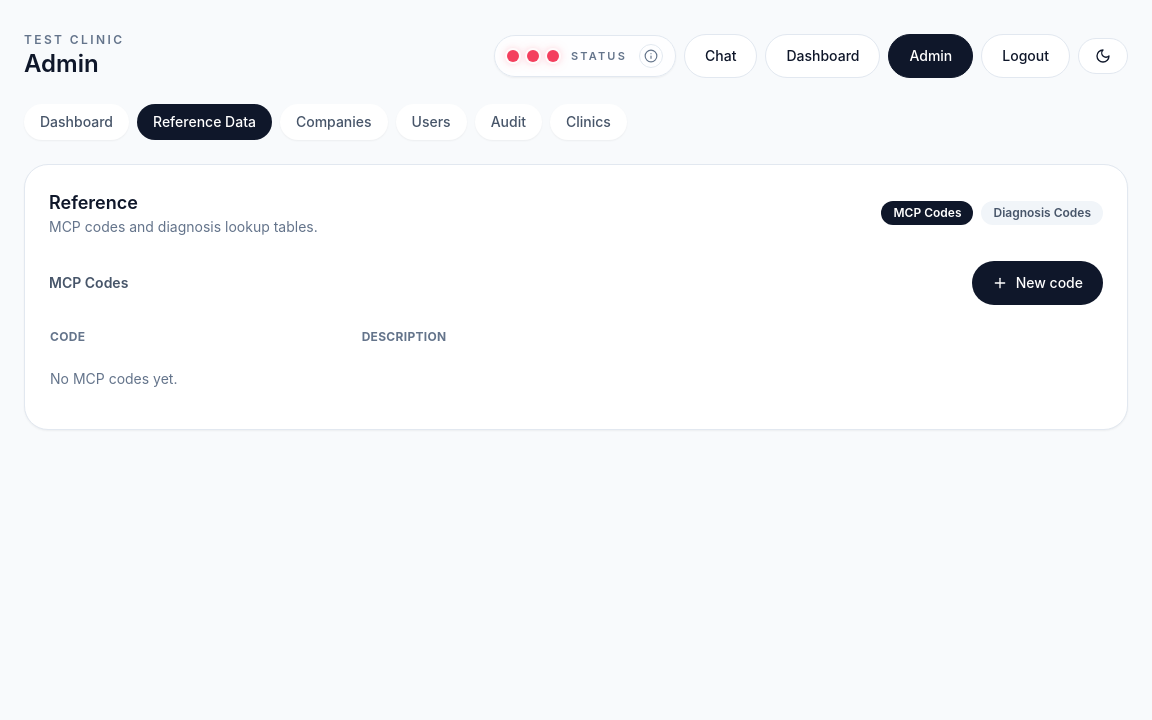
Test: admin ui › dashboard claim status refresh updates payer status
Click the button "Dashboard".
click(76, 122)  # box [24,104,129,140]
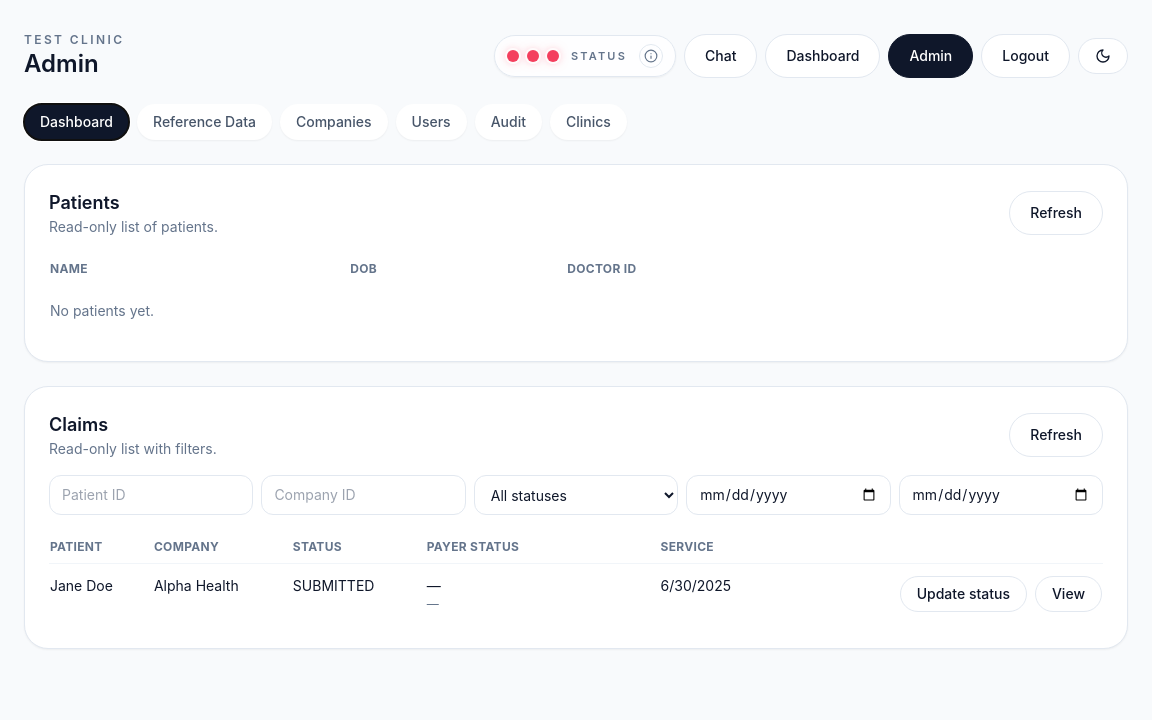
Result: the text "Jane Doe" is shown at [49,564,153,624]
Click the button "Update status".
click(963, 594)  # box [900,576,1027,612]
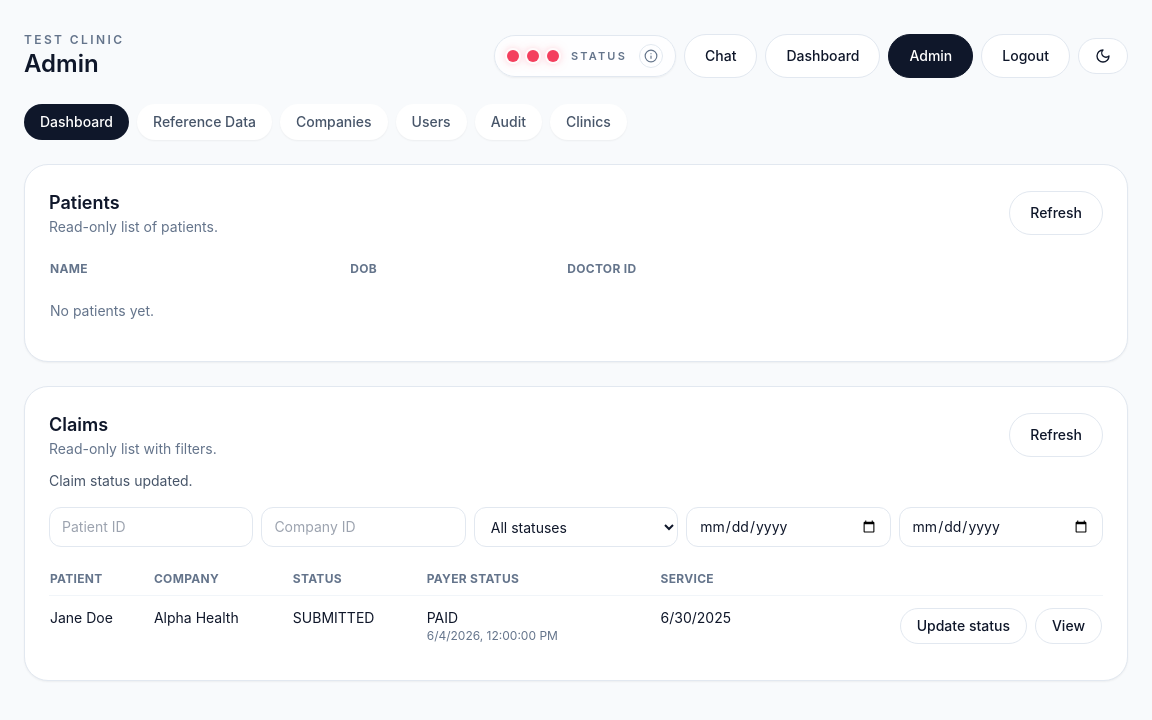
Result: the text "PAID" is shown at [427,609,458,626]
Result: the text "Claim status updated." is shown at [49,472,193,489]
